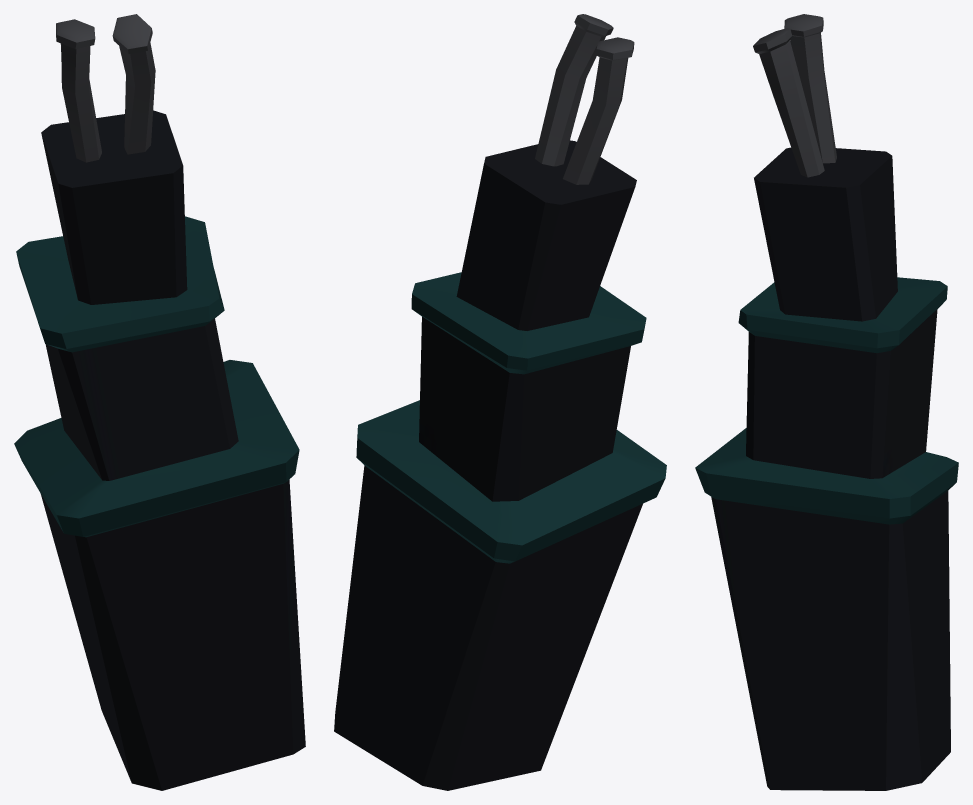
Rendered from SM_L_Modular_Chemney_1.fbx.
3 renders of one model, left to right at view 1: azimuth 30°, elevation 25°; view 2: azimuth 150°, elevation 25°; view 3: azimuth 270°, elevation 25°, orthographic. The views are drawn at different scales.
Parts seen in each view (by area): view 1: SM_Chemney_2; view 2: SM_Chemney_2; view 3: SM_Chemney_2.
Boxes of the visible parts, bbox=[...] form: SM_Chemney_2: bbox=[14, 14, 305, 790]; SM_Chemney_2: bbox=[334, 14, 666, 790]; SM_Chemney_2: bbox=[695, 14, 958, 790].
Bounding box in the file's own units: 68.04 × 179 × 60.44.
